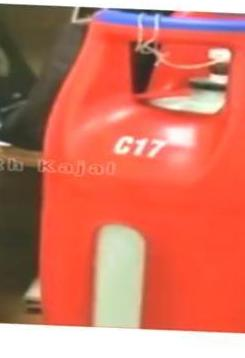cylinder: (1, 0, 245, 358)
